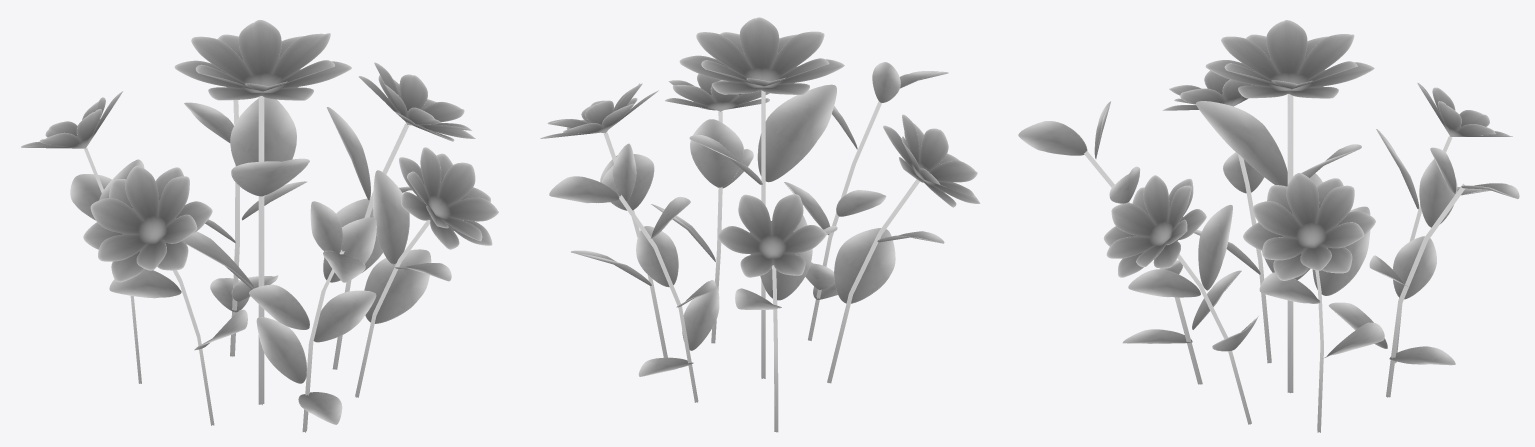
File: SM_FlowerGroup_01.fbx
3 renders of one model, left to right at view 1: azimuth 30°, elevation 25°; view 2: azimuth 150°, elevation 25°; view 3: azimuth 270°, elevation 25°, orthographic. The views are drawn at different scales.
Parts seen in each view (by area): view 1: SM_FlowerGroup_01_LOD0; view 2: SM_FlowerGroup_01_LOD0; view 3: SM_FlowerGroup_01_LOD0.
Boxes of the visible parts, <box> form: SM_FlowerGroup_01_LOD0: <box>21,20,498,432</box>; SM_FlowerGroup_01_LOD0: <box>540,17,980,432</box>; SM_FlowerGroup_01_LOD0: <box>1018,20,1519,432</box>.
Size of what is drawn, in the model's own units: 1.23 by 0.9893 by 1.31.
